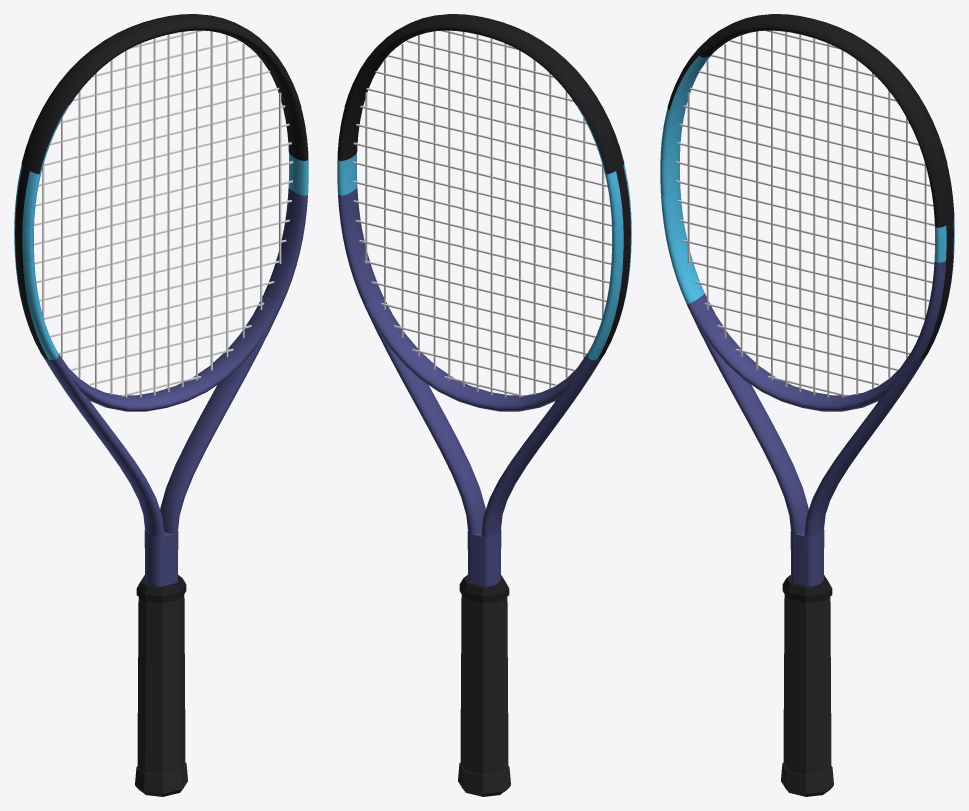
File: dunlop-fx-500-ls-2025.glb
3 renders of one model, left to right at view 1: azimuth 30°, elevation 25°; view 2: azimuth 150°, elevation 25°; view 3: azimuth 330°, elevation 25°, orthographic.
Visible parts, largest first — view 1: frame, strings_mains, strings_crosses, grip, bumper, grommets, butt_cap, collar; view 2: frame, strings_mains, strings_crosses, grip, bumper, grommets, butt_cap, collar; view 3: frame, strings_mains, strings_crosses, grip, bumper, grommets, butt_cap, collar.
Part boxes in pixels (left/top/right/bottom): frame: left=14, top=27, right=308, bottom=586; strings_mains: left=42, top=30, right=281, bottom=397; strings_crosses: left=34, top=30, right=293, bottom=396; grip: left=137, top=594, right=185, bottom=774; bumper: left=21, top=14, right=301, bottom=174; grommets: left=15, top=166, right=47, bottom=359; butt_cap: left=135, top=762, right=187, bottom=796; collar: left=136, top=575, right=186, bottom=602; frame: left=337, top=27, right=631, bottom=586; strings_mains: left=365, top=30, right=604, bottom=397; strings_crosses: left=352, top=30, right=611, bottom=396; grip: left=460, top=594, right=508, bottom=774; bumper: left=344, top=14, right=624, bottom=174; grommets: left=598, top=166, right=630, bottom=359; butt_cap: left=458, top=762, right=510, bottom=796; collar: left=459, top=575, right=509, bottom=602; frame: left=660, top=27, right=954, bottom=586; strings_mains: left=687, top=30, right=926, bottom=397; strings_crosses: left=675, top=30, right=934, bottom=396; grip: left=783, top=594, right=831, bottom=774; bumper: left=667, top=14, right=947, bottom=174; grommets: left=921, top=166, right=953, bottom=359; butt_cap: left=781, top=762, right=833, bottom=796; collar: left=782, top=575, right=832, bottom=602.
Size of the model in its own units: 0.2687 by 0.6861 by 0.0377.
